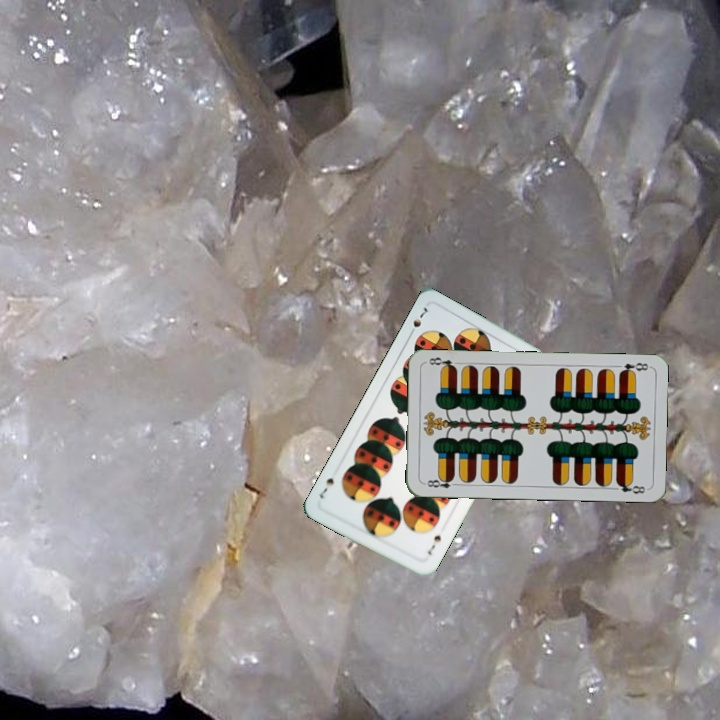E8: (420, 473, 461, 491), (616, 358, 652, 377)
S7: (405, 302, 430, 339), (424, 531, 444, 558)
